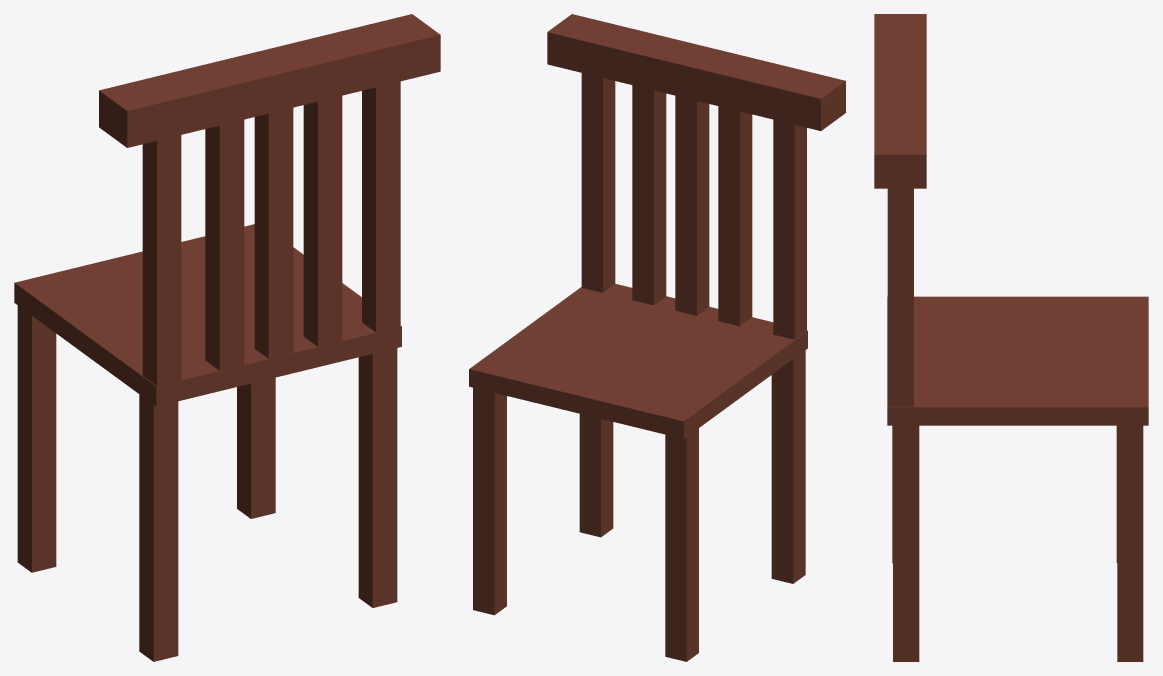
File: isu.fbx
3 renders of one model, left to right at view 1: azimuth 30°, elevation 25°; view 2: azimuth 150°, elevation 25°; view 3: azimuth 270°, elevation 25°, orthographic. The views are drawn at different scales.
Parts seen in each view (by area): view 1: 立方体; view 2: 立方体; view 3: 立方体.
Boxes of the visible parts, x1,y1,x2,y2 form: 立方体: (14,14,440,661); 立方体: (469,14,845,661); 立方体: (874,14,1148,661).
Size of the model in its own units: 255 by 441 by 210.
